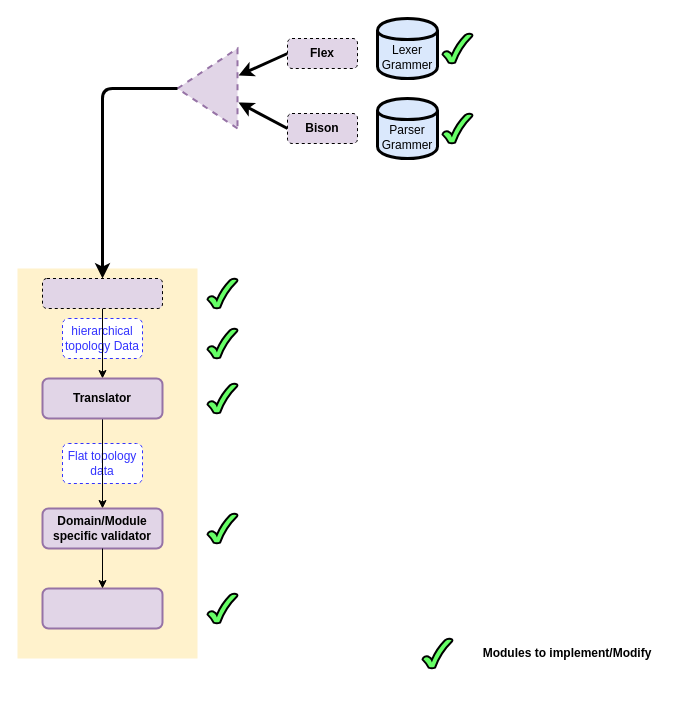
The diagram is 679 pixels wide and 714 high, and some of its shapes have lost their labels. Here are the shapes that lost their labels. From the top down, the box of each, then its label:
(42, 278, 162, 308): lexer + syntax analyser
(41, 587, 163, 629): LOAD CONFIG
